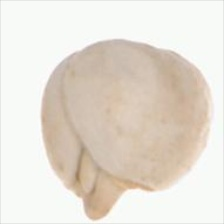L3: (65, 144, 158, 219)
L4: (40, 38, 213, 219)
